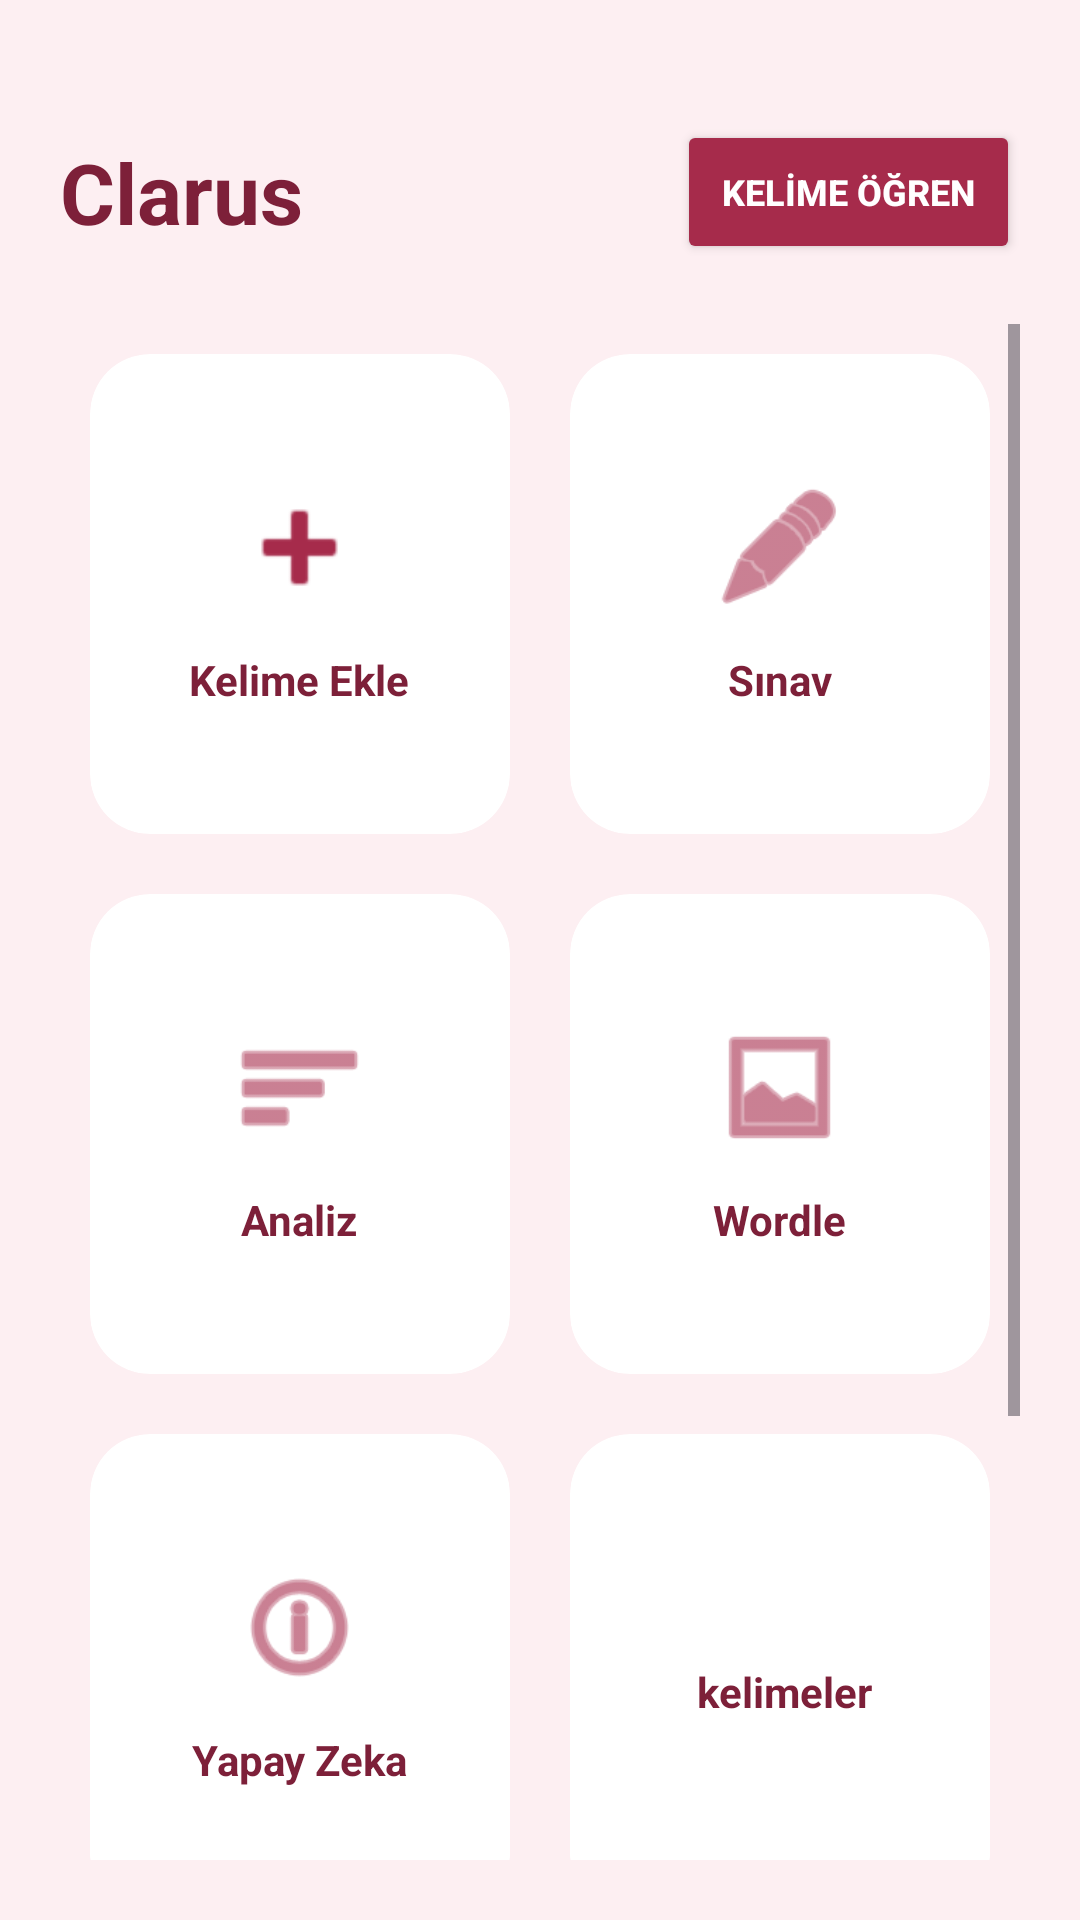

Named icons in this screenshot (1080×1920) and their centers, [x,y]:
add: [299,547]
edit: [779,546]
gallery: [779,1087]
info details: [299,1627]
sort by size: [299,1088]
